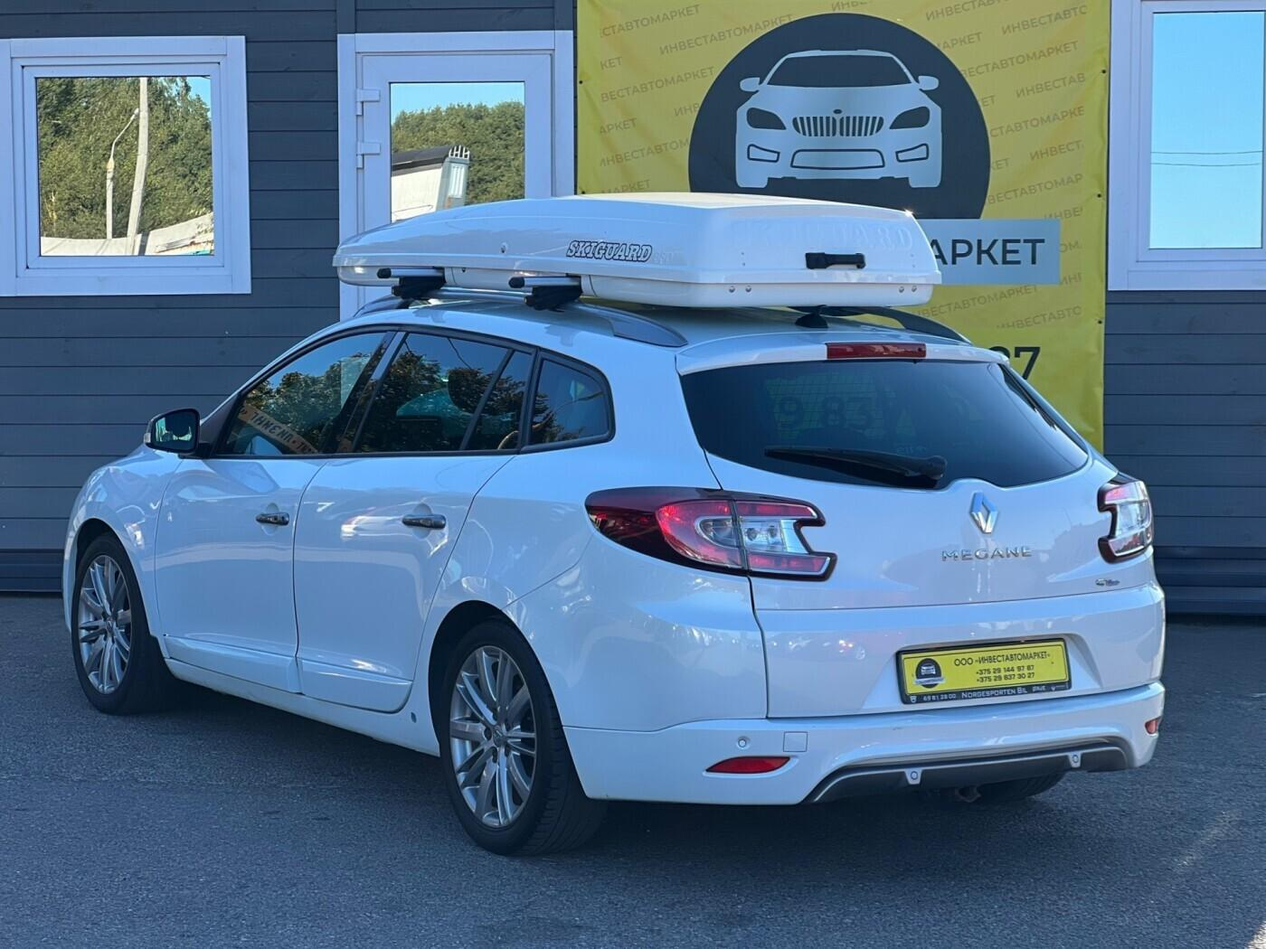Megane_2012-2014: (54, 285, 1169, 847)
